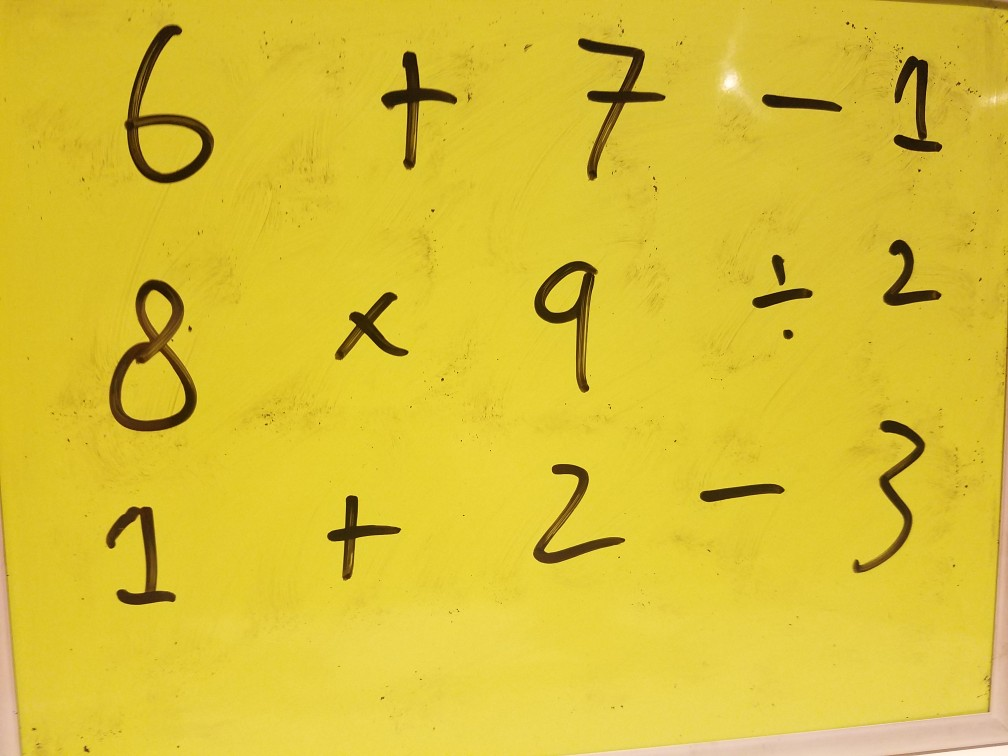+: (366, 50, 468, 183), (316, 486, 407, 607)
-: (689, 466, 797, 521), (738, 77, 848, 126)
1: (95, 494, 183, 626), (886, 39, 953, 175)
2: (515, 450, 636, 585), (870, 227, 954, 330)
3: (840, 403, 951, 585)
6: (112, 12, 236, 193)
7: (562, 17, 673, 206)
8: (94, 264, 204, 454)
9: (523, 251, 633, 418)
div: (724, 234, 824, 368)
x: (310, 270, 436, 386)
